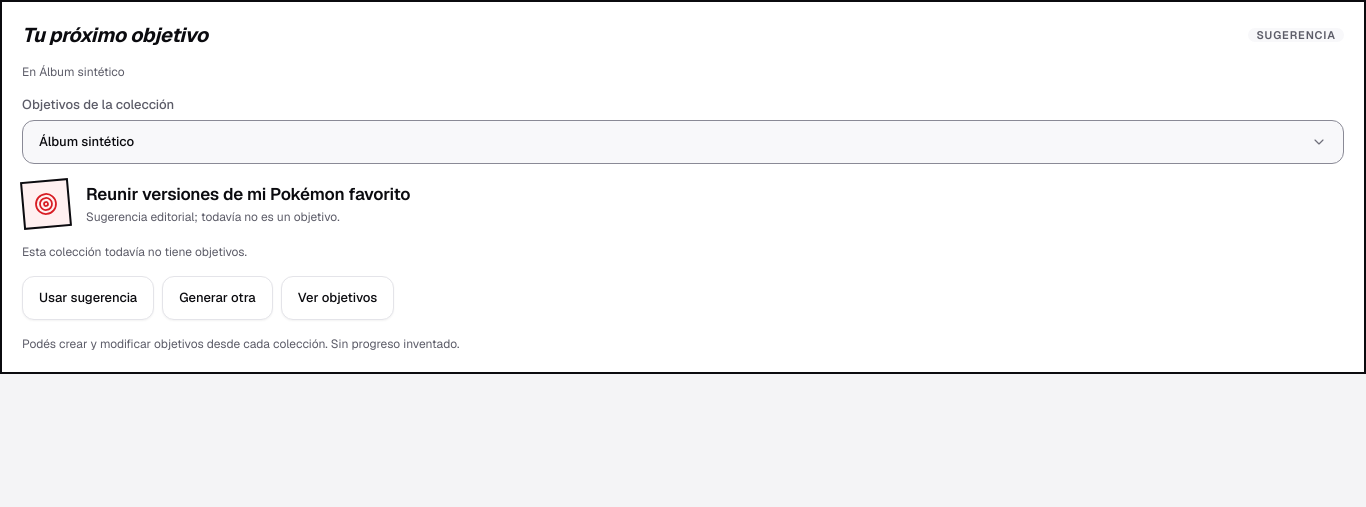
Test: Objetivo de Home — S3/S4 › tras crear muestra el próximo real que devuelve la recarga
Click the button "Usar sugerencia". click: (88, 298)
box: x1=22 y1=276 x2=154 y2=320
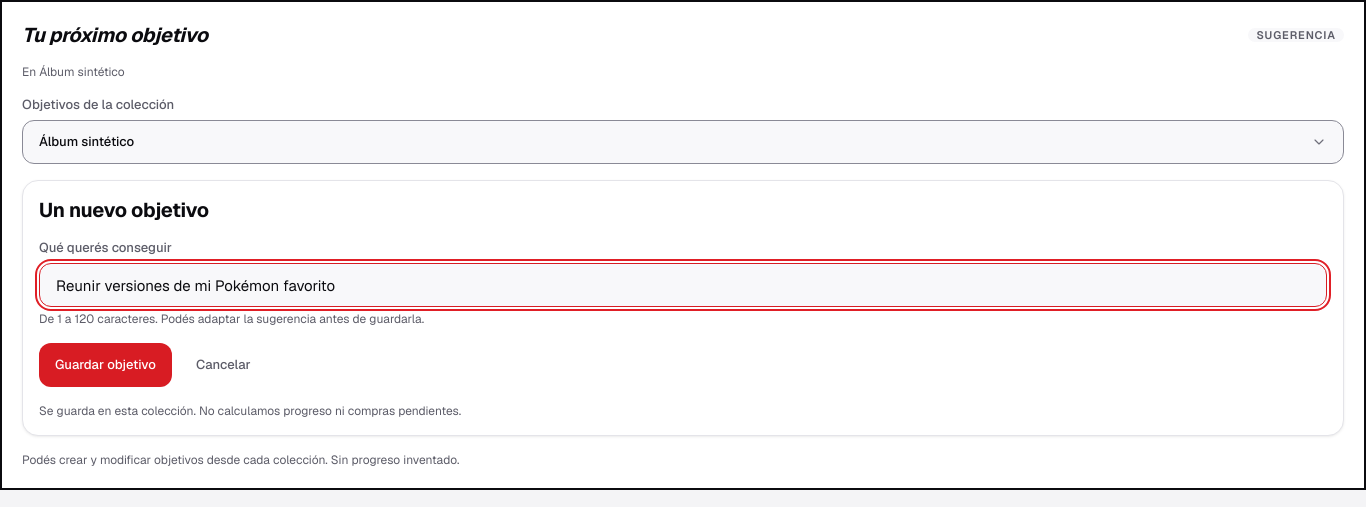
Click the button "Guardar objetivo". click: (105, 365)
box: x1=39 y1=343 x2=172 y2=387
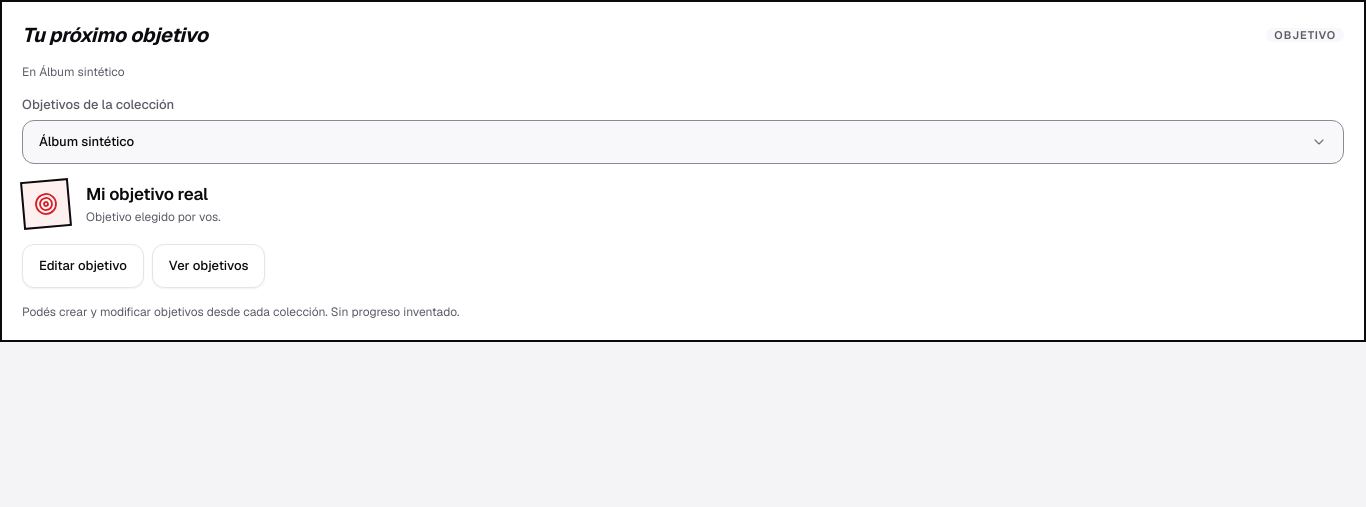
Expected: the heading "Mi objetivo real" is shown, x1=86 y1=183 x2=221 y2=205
Expected: the text "Objetivo" is shown, x1=1266 y1=28 x2=1344 y2=42
